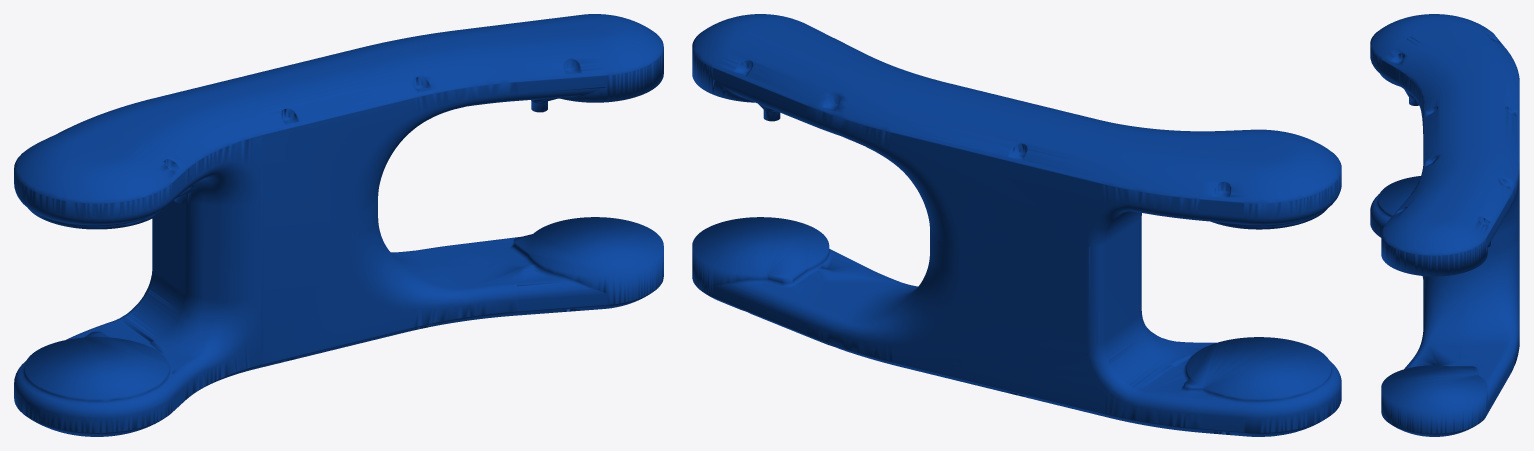
Rendered from YaskawaGP7Link2.dae.
The picture shows the model from 3 angles, left to right: view 1: azimuth 30°, elevation 25°; view 2: azimuth 150°, elevation 25°; view 3: azimuth 270°, elevation 25°; orthographic projection. The views are drawn at different scales.
Visible parts, largest first — view 1: YaskawaGP7Link2; view 2: YaskawaGP7Link2; view 3: YaskawaGP7Link2.
Part boxes in pixels (x1,y1,x2,y2): YaskawaGP7Link2: (14,14,663,436); YaskawaGP7Link2: (692,14,1341,436); YaskawaGP7Link2: (1370,14,1519,436).
Bounding box in the file's own units: 0.562 × 0.149 × 0.23.
